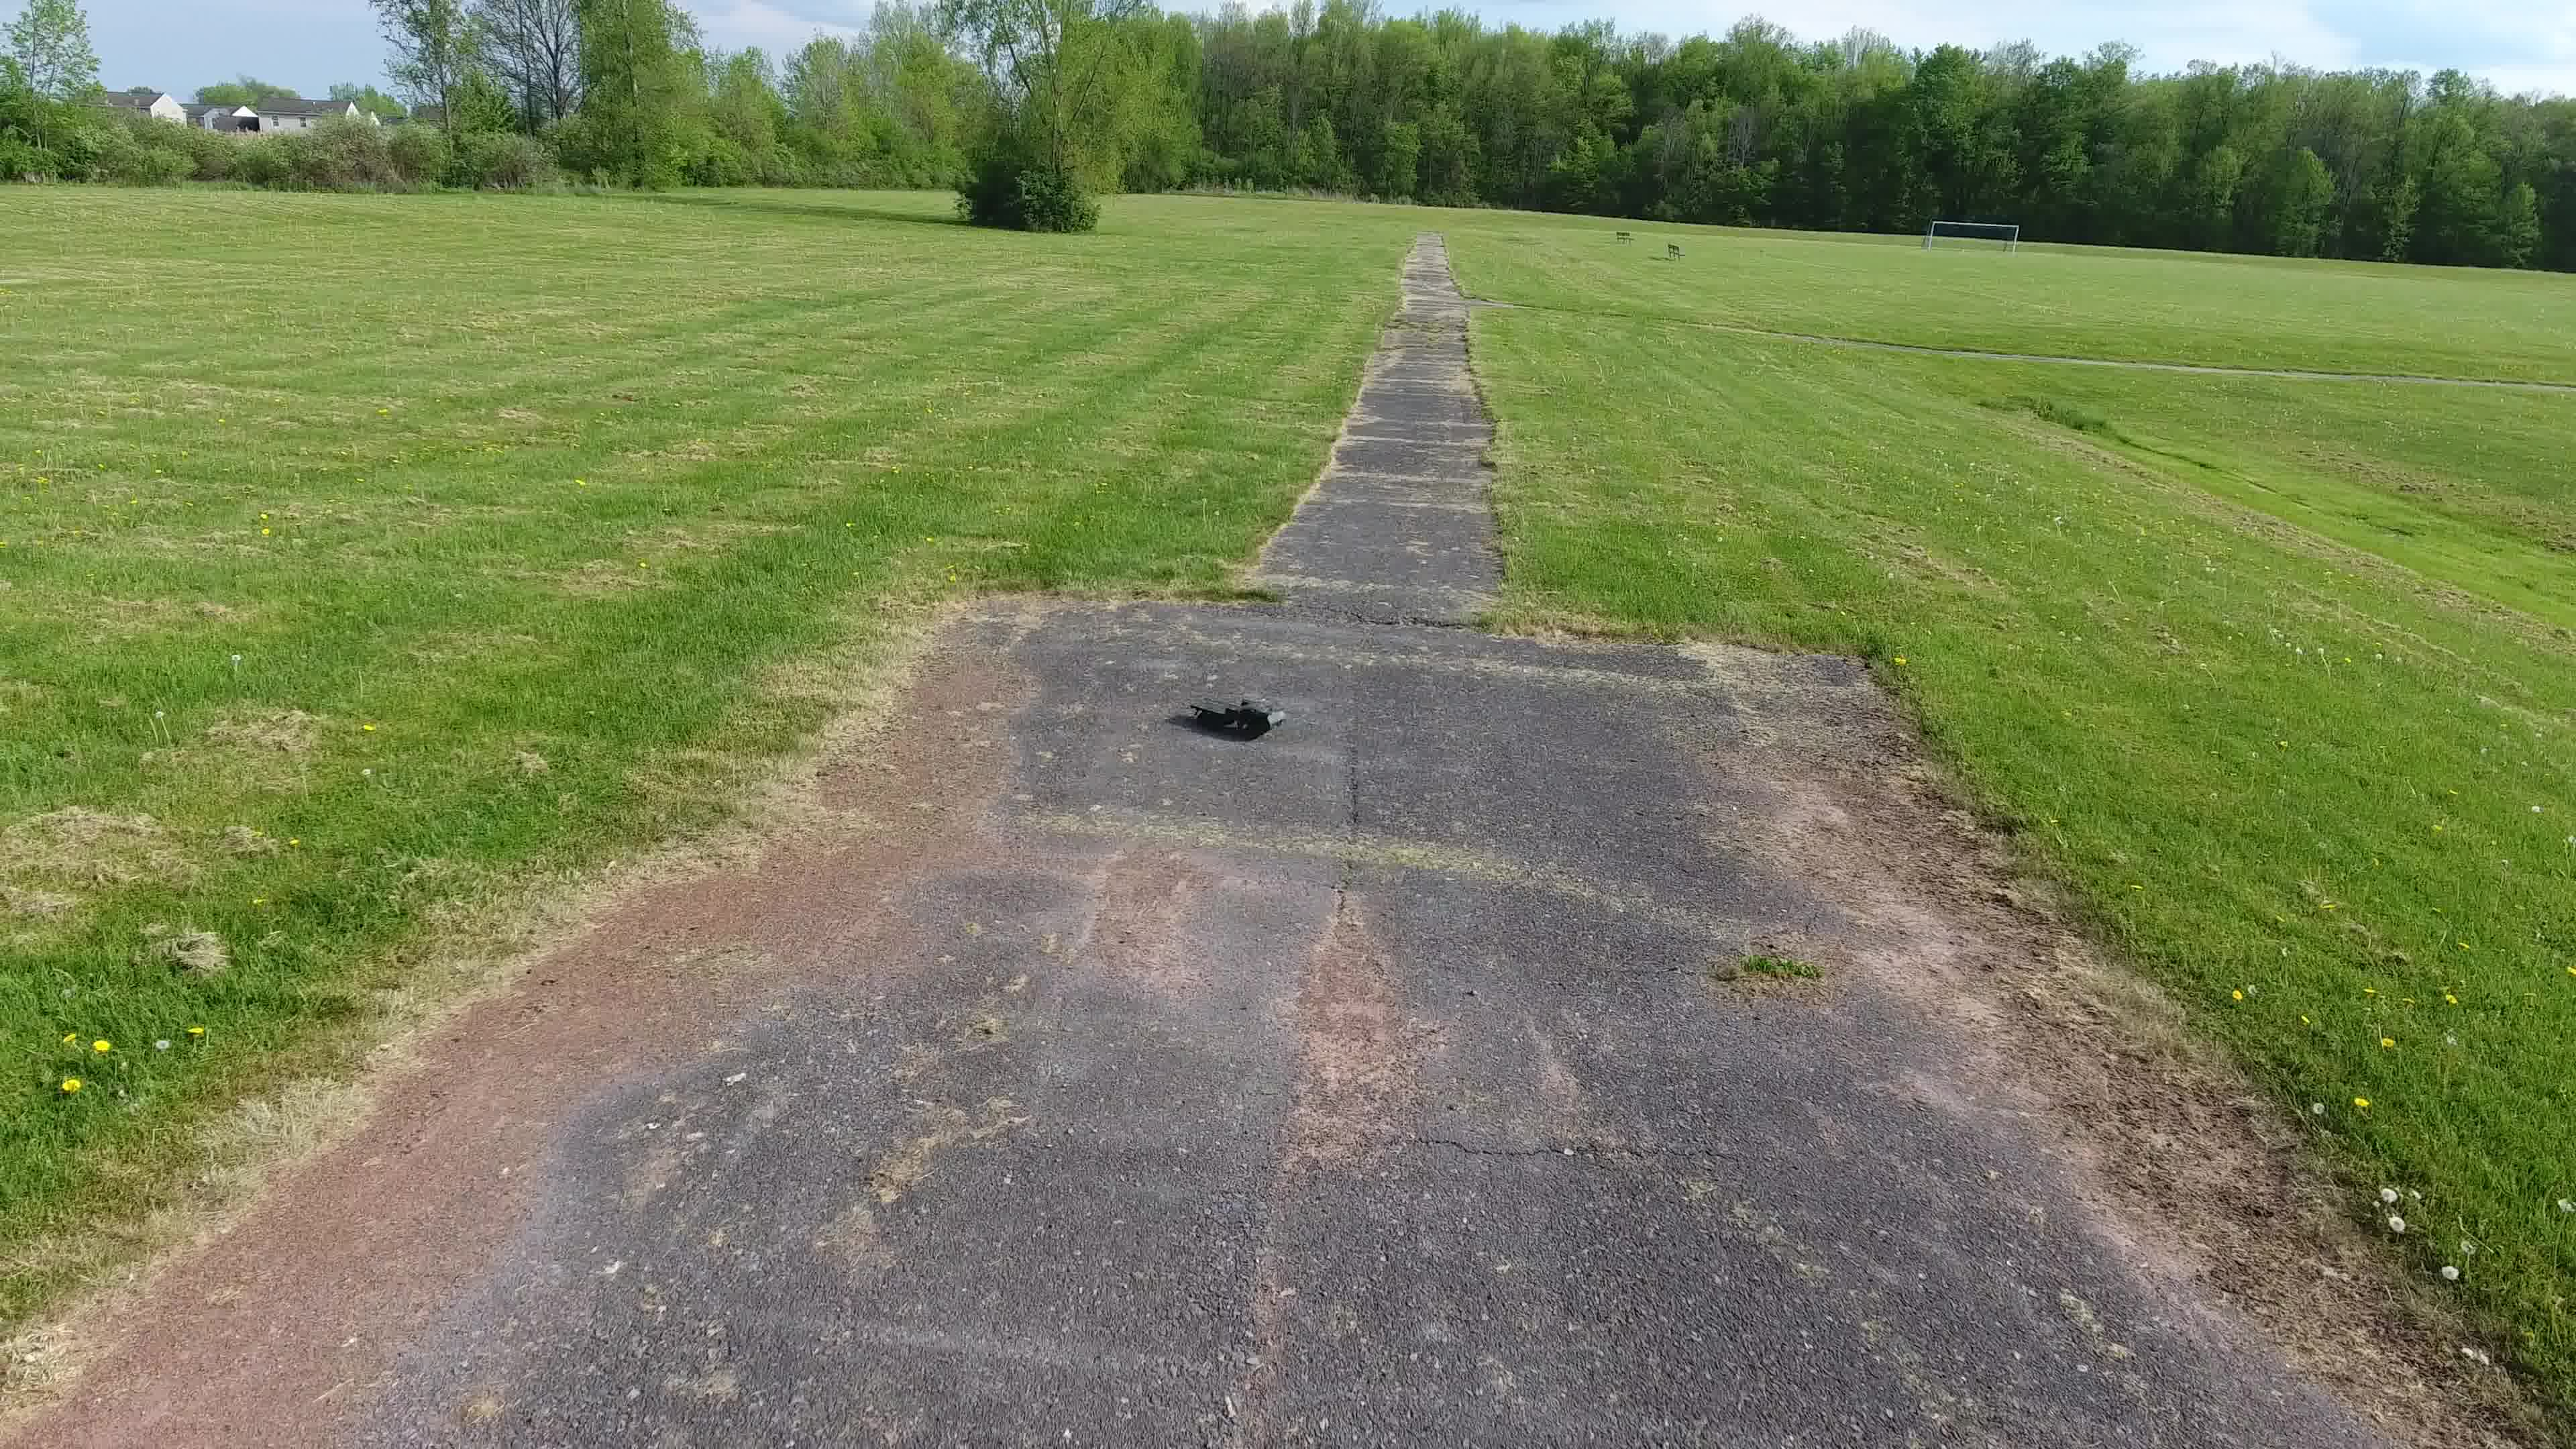transporter9: (1185, 686, 1288, 740)
